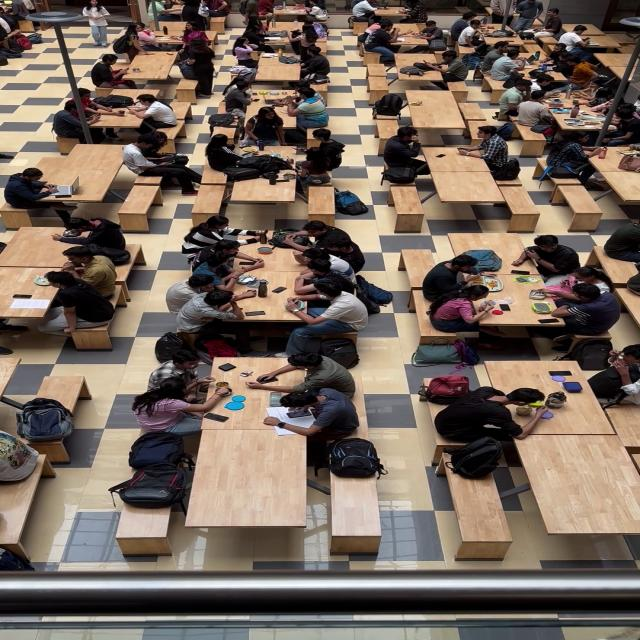Occupied: (480, 362, 619, 436), (19, 143, 133, 213), (195, 361, 301, 431), (420, 143, 510, 224), (209, 223, 311, 290), (263, 386, 360, 456), (434, 387, 544, 445), (232, 2, 332, 64), (430, 287, 566, 331), (132, 379, 232, 434), (248, 351, 356, 401), (120, 134, 203, 191), (541, 133, 613, 190), (0, 226, 102, 263), (180, 215, 266, 258), (546, 279, 621, 326), (287, 280, 367, 324), (171, 293, 254, 334), (148, 353, 214, 403), (189, 242, 260, 286), (56, 250, 118, 300), (422, 256, 486, 304), (145, 15, 228, 50), (592, 347, 640, 405), (56, 217, 128, 255), (3, 168, 63, 212), (515, 238, 581, 278), (544, 105, 607, 146), (53, 101, 111, 144), (229, 176, 298, 212), (205, 132, 262, 175), (292, 245, 356, 280), (460, 124, 510, 168), (276, 220, 344, 252), (383, 126, 429, 172), (577, 83, 630, 121), (179, 45, 216, 98), (122, 51, 179, 85), (598, 102, 640, 147), (300, 128, 346, 169), (128, 94, 177, 132), (242, 107, 286, 148), (284, 90, 328, 130), (352, 9, 414, 37), (253, 53, 303, 86), (421, 49, 469, 83), (474, 29, 530, 57), (90, 54, 133, 90), (364, 20, 399, 63), (65, 89, 113, 119), (604, 220, 639, 261), (287, 21, 325, 57), (125, 23, 165, 54), (498, 78, 530, 116), (429, 288, 475, 314), (297, 47, 330, 83), (488, 50, 524, 82), (242, 21, 278, 52), (510, 0, 543, 32), (532, 10, 565, 41), (394, 53, 444, 73), (449, 12, 479, 45), (535, 99, 585, 118), (560, 24, 609, 43), (390, 33, 434, 54), (235, 275, 272, 297), (180, 21, 210, 48), (233, 37, 260, 66), (397, 0, 428, 23), (271, 7, 312, 24), (147, 0, 178, 22), (198, 0, 229, 22), (158, 21, 192, 39), (603, 34, 638, 51), (148, 36, 186, 51), (302, 0, 328, 21), (352, 0, 379, 20), (256, 0, 279, 23), (186, 252, 210, 273), (372, 8, 410, 20), (12, 0, 34, 20), (259, 26, 289, 39), (474, 26, 499, 38), (18, 20, 36, 32)
Unoccupied: (515, 433, 640, 537), (184, 429, 308, 532), (439, 456, 514, 560), (327, 472, 383, 556), (0, 479, 47, 567), (114, 495, 174, 557), (408, 90, 470, 136), (446, 233, 531, 264), (234, 148, 299, 184), (552, 184, 605, 228), (494, 183, 542, 231), (0, 201, 78, 230), (117, 182, 164, 229), (34, 376, 90, 412), (602, 403, 640, 451), (389, 185, 426, 231), (259, 80, 306, 112), (191, 183, 228, 221), (402, 249, 438, 283), (307, 185, 336, 223), (222, 75, 255, 108), (208, 122, 240, 148), (457, 103, 487, 123), (242, 134, 265, 154), (512, 52, 540, 68)
